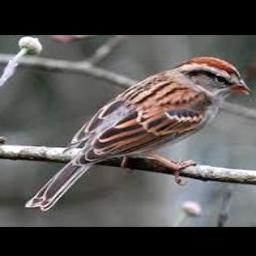Sparrow: (25, 56, 253, 212)
